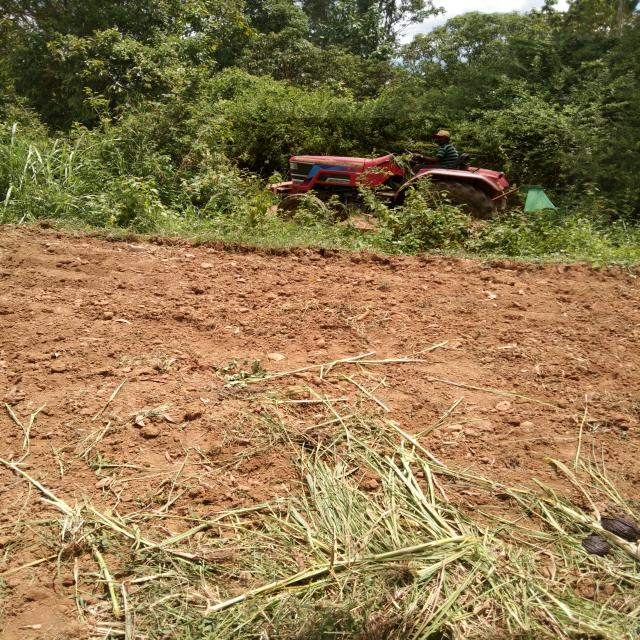Tractot: (224, 118, 561, 256)
